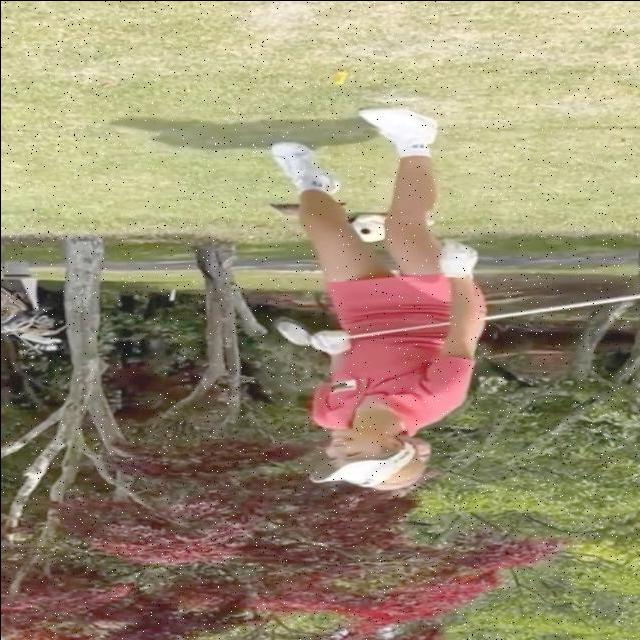golf club-handle: (273, 291, 640, 347)
golf club-head: (277, 316, 312, 346)
